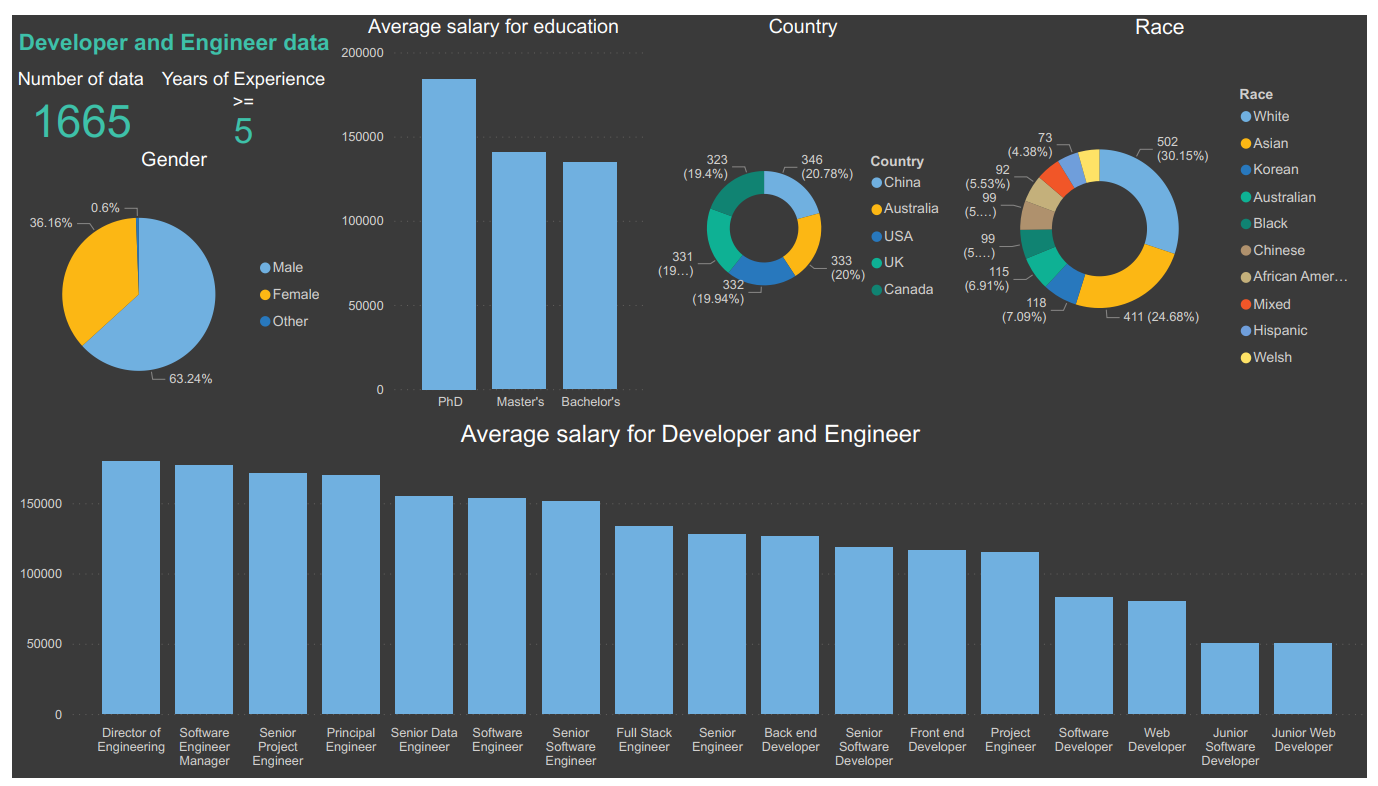

The page's visual inventory and layout, read from the dashboard file:
{"tool":"powerbi","page":{"name":"第 1 頁","canvas":[1280,720],"ordinal":0},"visuals":[{"type":"clusteredColumnChart","title":"Average salary for Developer and Engineer","fields":{"Category":["cleaned_data.Job Title"],"Y":["Avg(cleaned_data.Salary)"]},"box":[1.5,381.7,1279,338],"z":0},{"type":"clusteredColumnChart","title":"Average salary for education","fields":{"Category":["cleaned_data.Education Level"],"Y":["Avg(cleaned_data.Salary)"]},"box":[304.7,0,300.4,380.8],"z":1000},{"type":"pieChart","title":"Gender ","fields":{"Category":["cleaned_data.Gender"],"Y":["CountNonNull(cleaned_data.Gender)"]},"box":[1.4,125,303.2,255.8],"z":2000},{"type":"donutChart","title":"Country","fields":{"Category":["cleaned_data.Country"],"Y":["CountNonNull(cleaned_data.Country)"]},"box":[605,0,284.6,380.8],"z":3000},{"type":"donutChart","title":"Race","fields":{"Category":["cleaned_data.Race"],"Y":["CountNonNull(cleaned_data.Race)"]},"box":[889.6,0,389.5,380.8],"z":4000},{"type":"card","title":"Years of Experience       >=","fields":{"Values":["Min(cleaned_data.Years of Experience)"]},"box":[132,50,173,76],"z":5000},{"type":"card","title":"Number of data","fields":{"Values":["CountNonNull(cleaned_data.Gender)"]},"box":[0,50,131,76],"z":6000},{"type":"textbox","box":[1,9,305,41],"z":7000}]}

Visuals, with their boxes in screenshot pixels (x1, y1, x2, y2), scaled from the page's 1280x720 canvas onto the 1378x786 screenshot:
"Average salary for Developer and Engineer" clusteredColumnChart: x1=2, y1=417, x2=1377, y2=785
"Average salary for education" clusteredColumnChart: x1=328, y1=0, x2=651, y2=416
"Gender " pieChart: x1=2, y1=136, x2=328, y2=416
"Country" donutChart: x1=651, y1=0, x2=958, y2=416
"Race" donutChart: x1=958, y1=0, x2=1377, y2=416
"Years of Experience       >=" card: x1=142, y1=55, x2=328, y2=138
"Number of data" card: x1=0, y1=55, x2=141, y2=138
textbox: x1=1, y1=10, x2=329, y2=55
